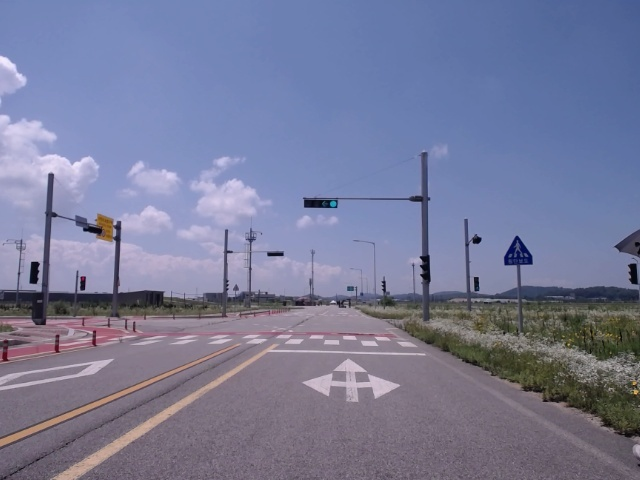all_green_4: (303, 197, 339, 209)
